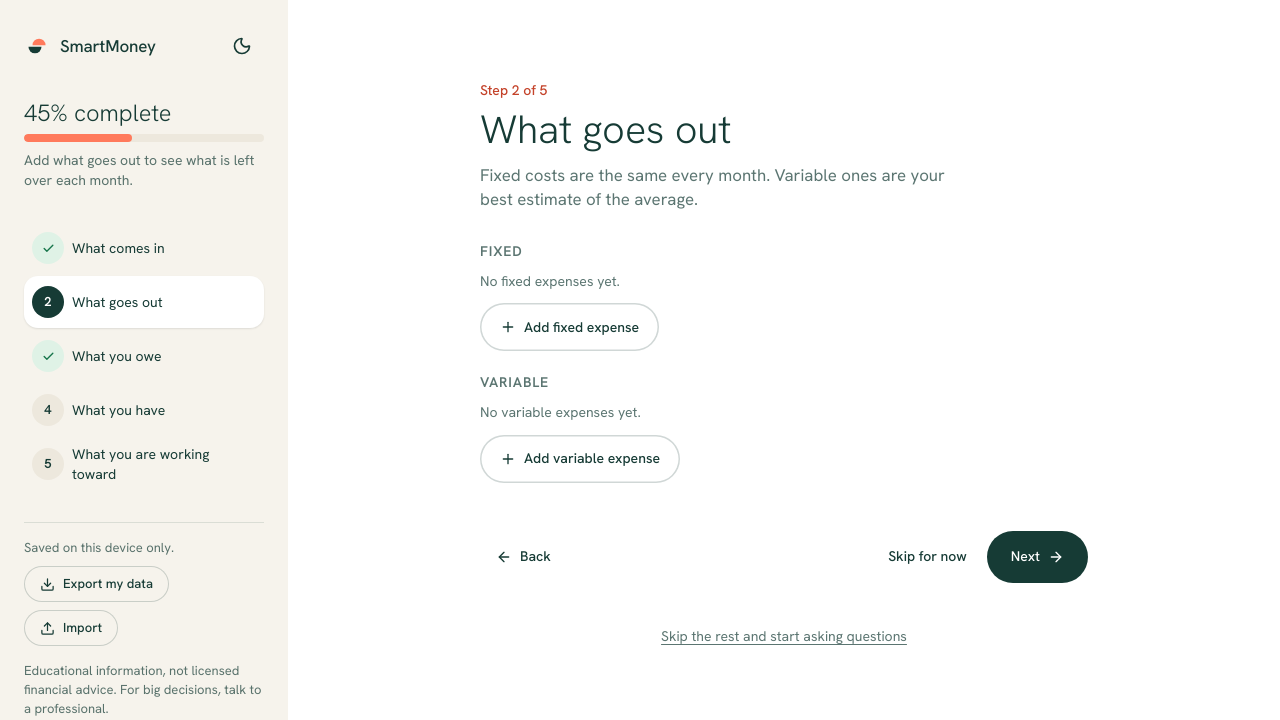
Test case: the advisor thread › keeps the example questions as chips that fill the input
Click the button "Skip the rest and start asking questions": coordinates (784, 637) x1=661 y1=615 x2=907 y2=659
(page scrolled)
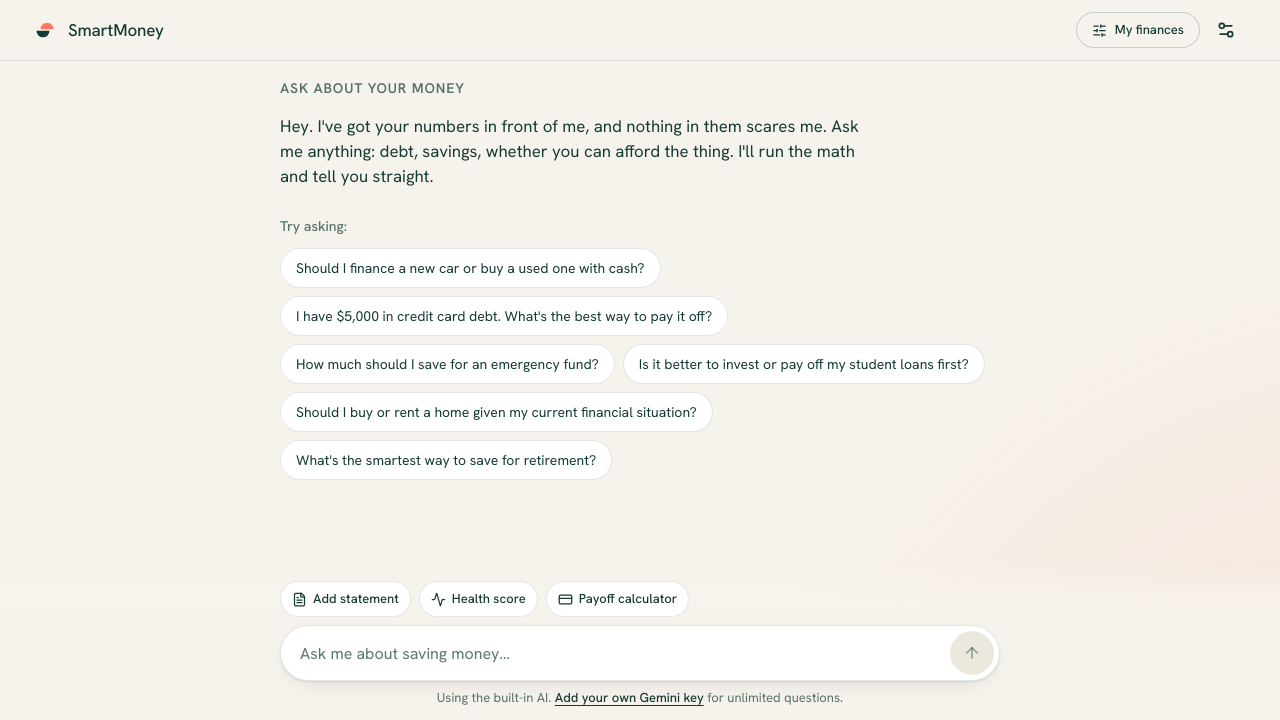
Click the button "What's the smartest way to save for retirement?": coordinates (446, 460) x1=280 y1=440 x2=612 y2=480
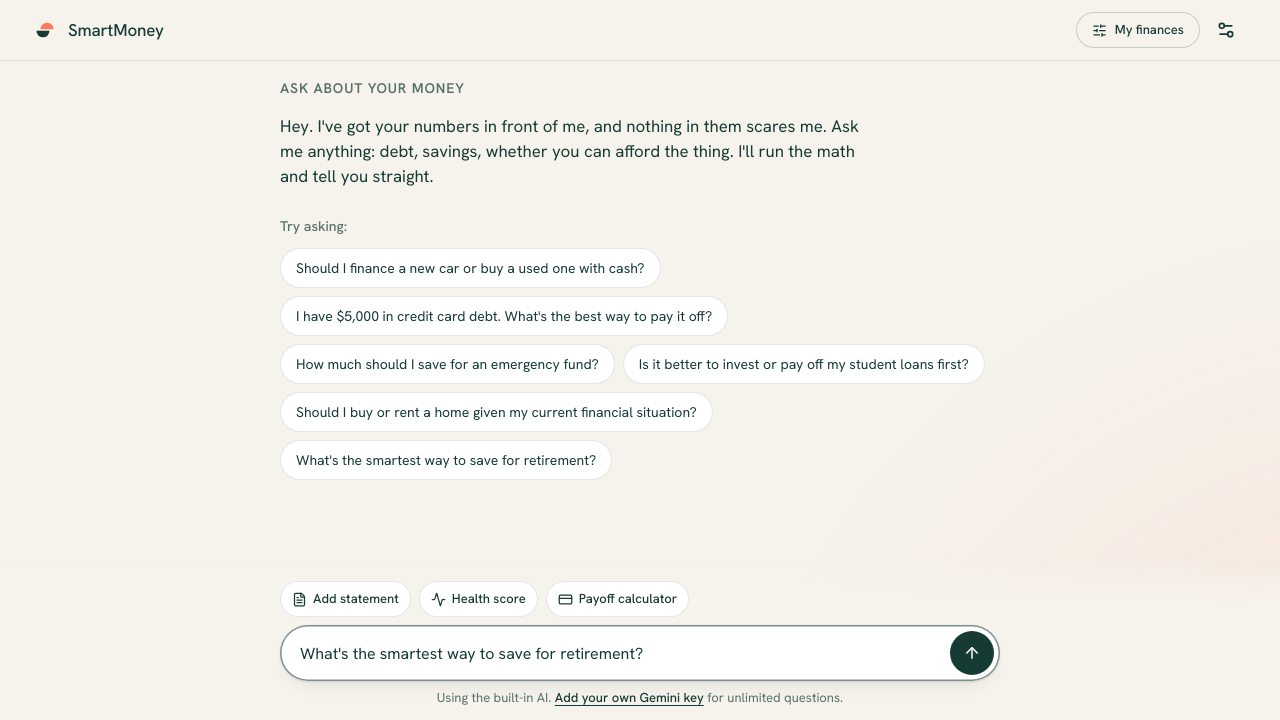
Expected: the field with placeholder "Ask me about saving money…" holds "What's the smartest way to save for retirement?", x1=300 y1=631 x2=942 y2=675
